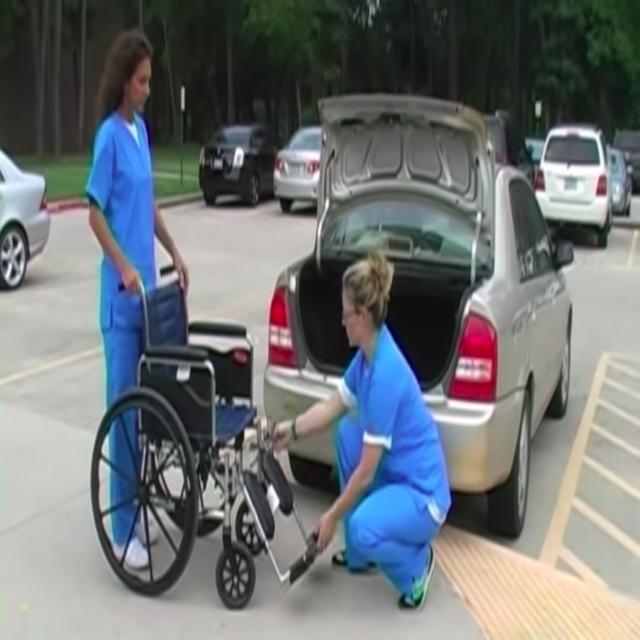wheelchairs: (96, 272, 312, 616)
